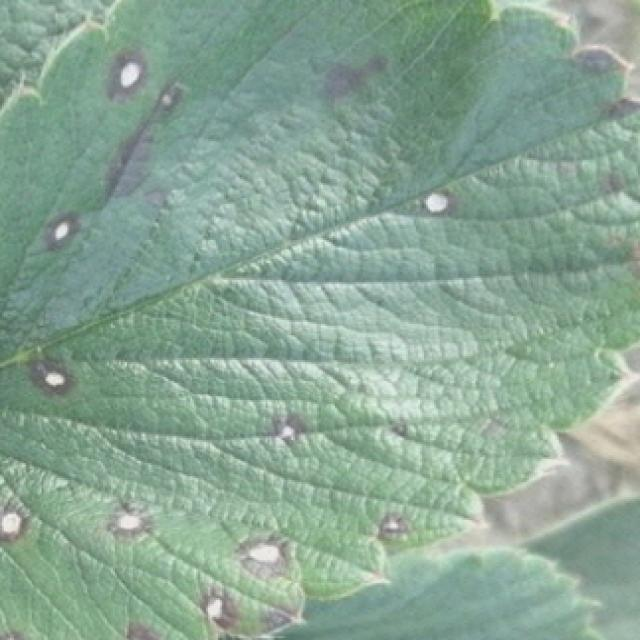Leaf Spot: (0, 0, 640, 640), (516, 489, 640, 640)
